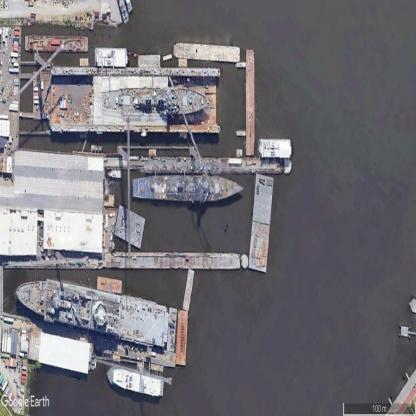ship: (17, 279, 169, 348), (131, 176, 244, 203), (108, 366, 164, 398), (258, 138, 292, 159), (119, 0, 130, 25), (108, 170, 122, 179), (234, 129, 245, 136), (234, 62, 246, 68)
